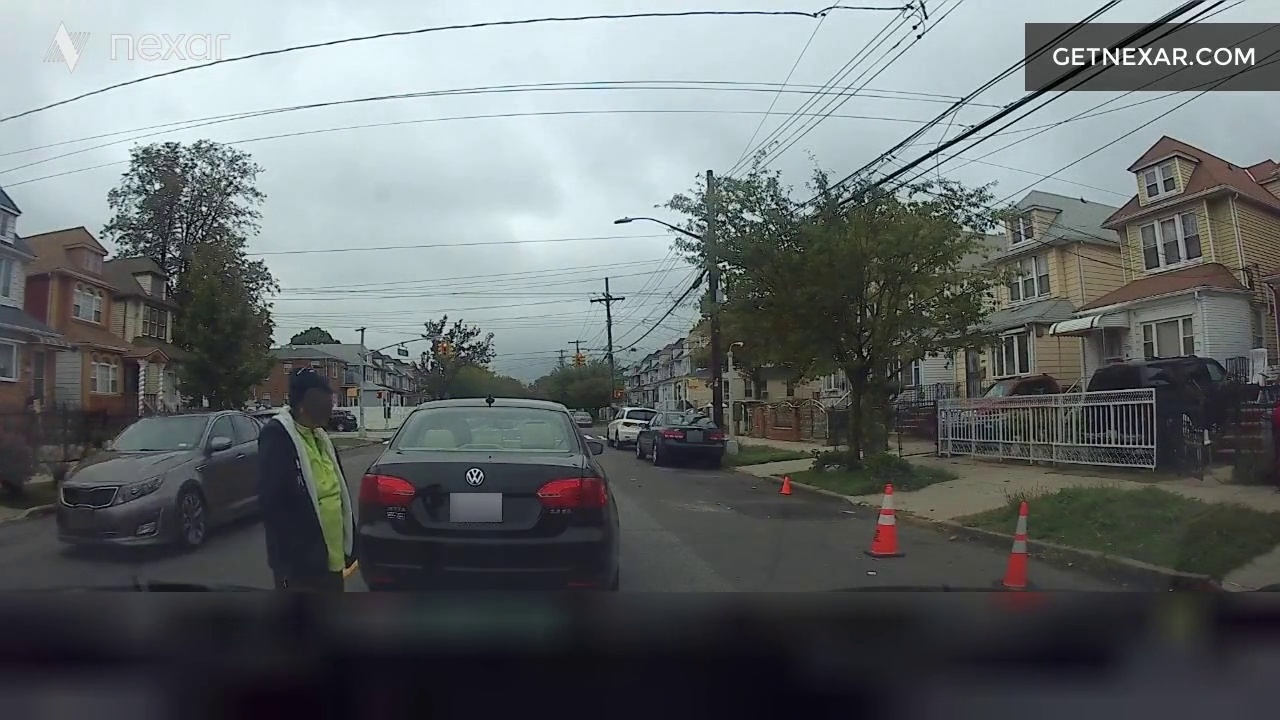car: (362, 380, 597, 620), (47, 369, 249, 577), (1068, 338, 1238, 480), (616, 372, 742, 511), (948, 339, 1053, 476)
person: (265, 371, 351, 598)
